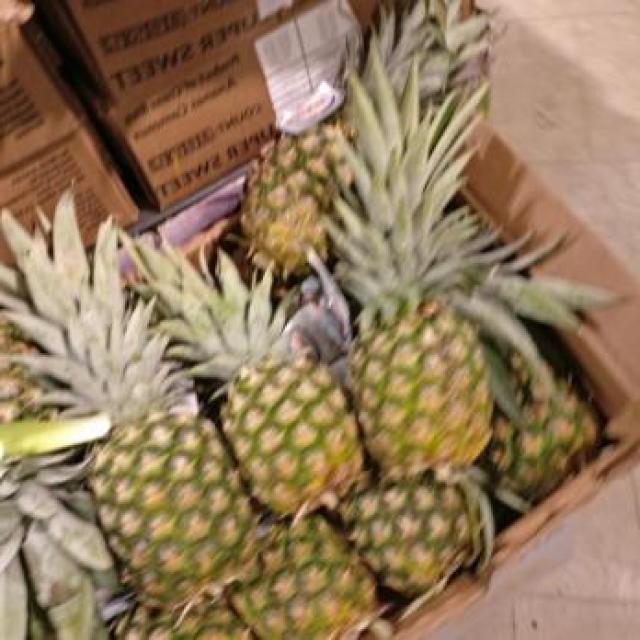pineapple: (0, 195, 256, 609), (328, 48, 519, 482), (127, 239, 362, 515), (241, 101, 351, 276), (229, 515, 375, 640), (340, 475, 471, 597), (490, 379, 598, 509), (370, 0, 489, 106), (115, 596, 258, 639)
